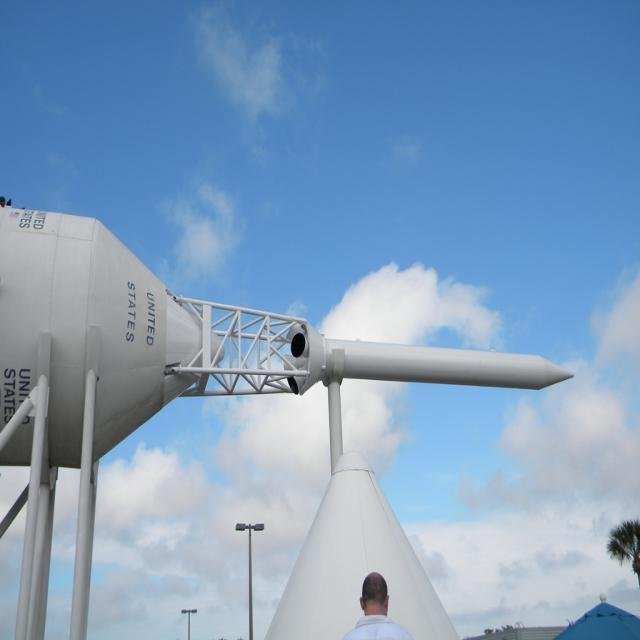missile: (317, 322, 580, 400)
